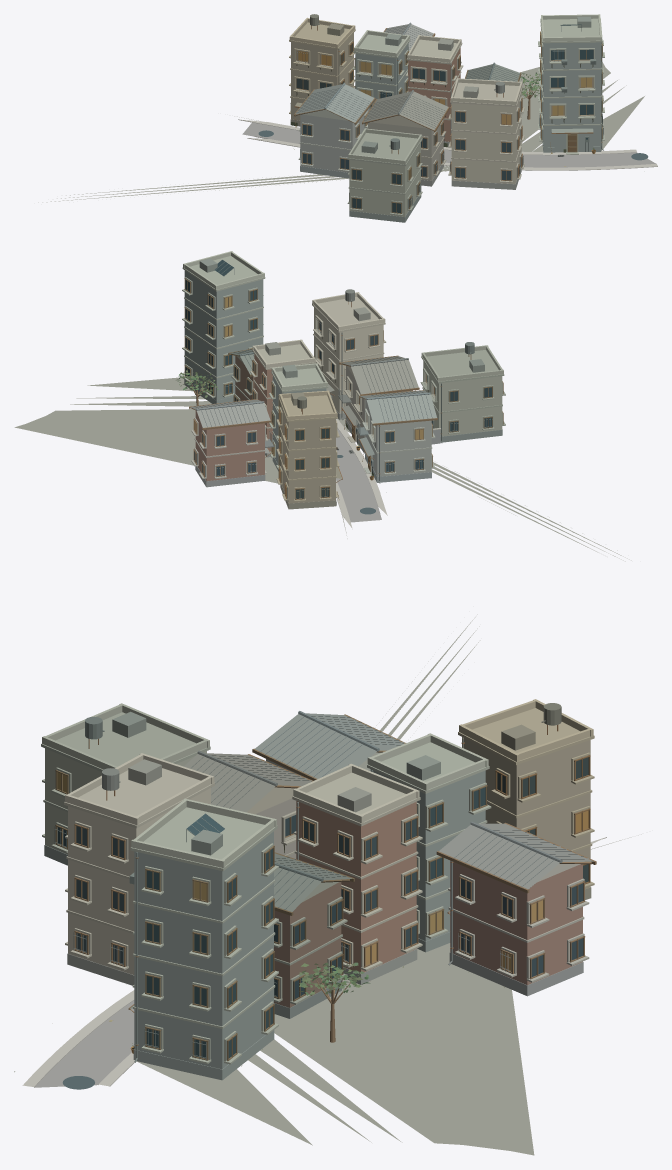
The model's file is street_3_6.glb.
3 renders of one model, top to bottom at view 1: azimuth 30°, elevation 25°; view 2: azimuth 150°, elevation 25°; view 3: azimuth 270°, elevation 25°, orthographic. The views are drawn at different scales.
Parts seen in each view (by area): view 1: trim.033, plaster.033, graybrick.032, roof_metal.033, concrete.028, wood.033, ground.021, metal.033, glass.033, road.037, brick.013, paving.015 (+1 smaller); view 2: trim.033, plaster.033, ground.021, graybrick.032, roof_metal.033, concrete.028, wood.033, brick.013, metal.033, glass.033, road.037, paving.015 (+2 smaller); view 3: ground.021, trim.033, graybrick.032, plaster.033, brick.013, roof_metal.033, wood.033, glass.033, concrete.028, metal.033, road.037, paving.015 (+3 smaller).
Part boxes in pixels (x1,y1,x2,y2): trim.033: (289, 18, 604, 215); plaster.033: (289, 14, 601, 216); graybrick.032: (290, 42, 601, 222); roof_metal.033: (295, 16, 593, 153); concrete.028: (291, 33, 443, 180); wood.033: (294, 28, 602, 213); ground.021: (38, 62, 644, 202); metal.033: (290, 14, 603, 208); glass.033: (296, 24, 593, 212); road.037: (242, 122, 655, 167); brick.013: (408, 47, 460, 141); paving.015: (238, 119, 657, 170); trim.033: (182, 256, 505, 501); plaster.033: (183, 251, 503, 436); ground.021: (14, 377, 631, 561); graybrick.032: (184, 270, 502, 509); roof_metal.033: (190, 258, 484, 478); concrete.028: (280, 365, 431, 503); wood.033: (184, 278, 503, 499); brick.013: (195, 354, 272, 481); metal.033: (194, 259, 492, 499); glass.033: (185, 260, 491, 498); road.037: (336, 428, 381, 522); paving.015: (336, 419, 387, 528); ground.021: (136, 614, 641, 1155); trim.033: (41, 708, 594, 1064); graybrick.032: (44, 769, 591, 1080); plaster.033: (42, 699, 593, 974); brick.013: (274, 801, 582, 1007); roof_metal.033: (112, 711, 593, 1008); wood.033: (55, 714, 596, 1061); glass.033: (57, 757, 588, 1059); concrete.028: (255, 737, 590, 888); metal.033: (54, 703, 588, 1062); road.037: (34, 1000, 134, 1087); paving.015: (22, 837, 606, 1087).
Size of the model in its own units: 70.9 by 13.49 by 34.62.
